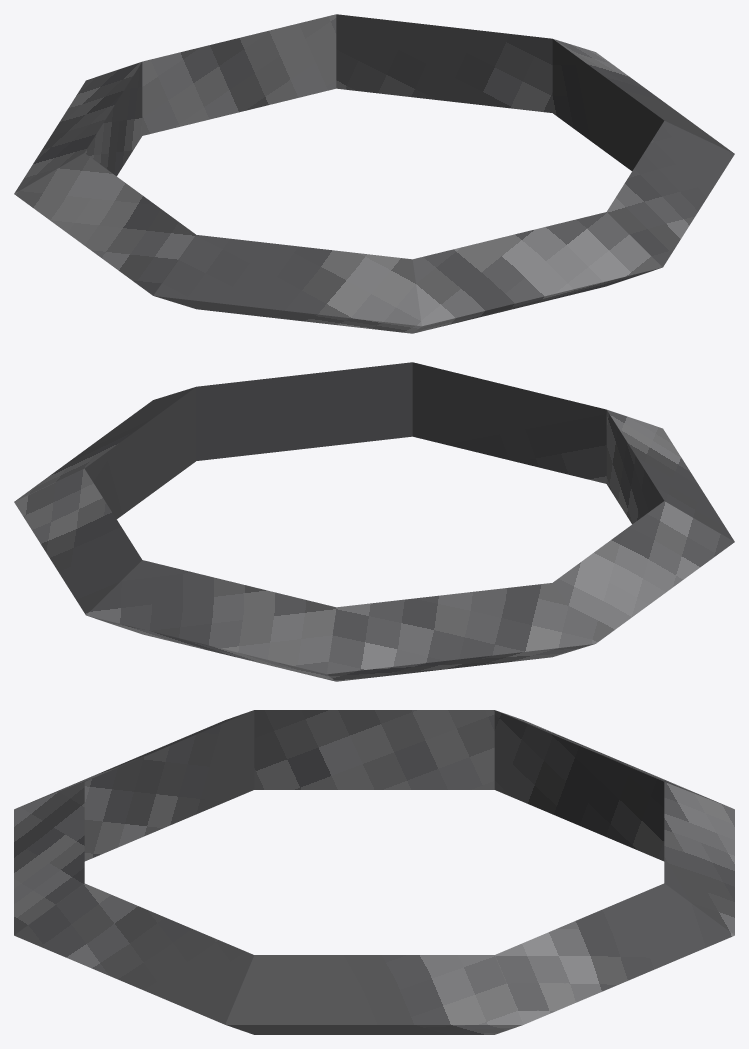
Rendered from rod-downring.obj.
3 renders of one model, top to bottom at view 1: azimuth 30°, elevation 25°; view 2: azimuth 150°, elevation 25°; view 3: azimuth 270°, elevation 25°, orthographic. The views are drawn at different scales.
Parts seen in each view (by area): view 1: downring_Torus; view 2: downring_Torus; view 3: downring_Torus.
Boxes of the visible parts, x1,y1,x2,y2 form: downring_Torus: (14,14,734,333); downring_Torus: (14,362,734,681); downring_Torus: (14,710,734,1034).
Size of the model in its own units: 2.12 by 0.2598 by 2.12.
